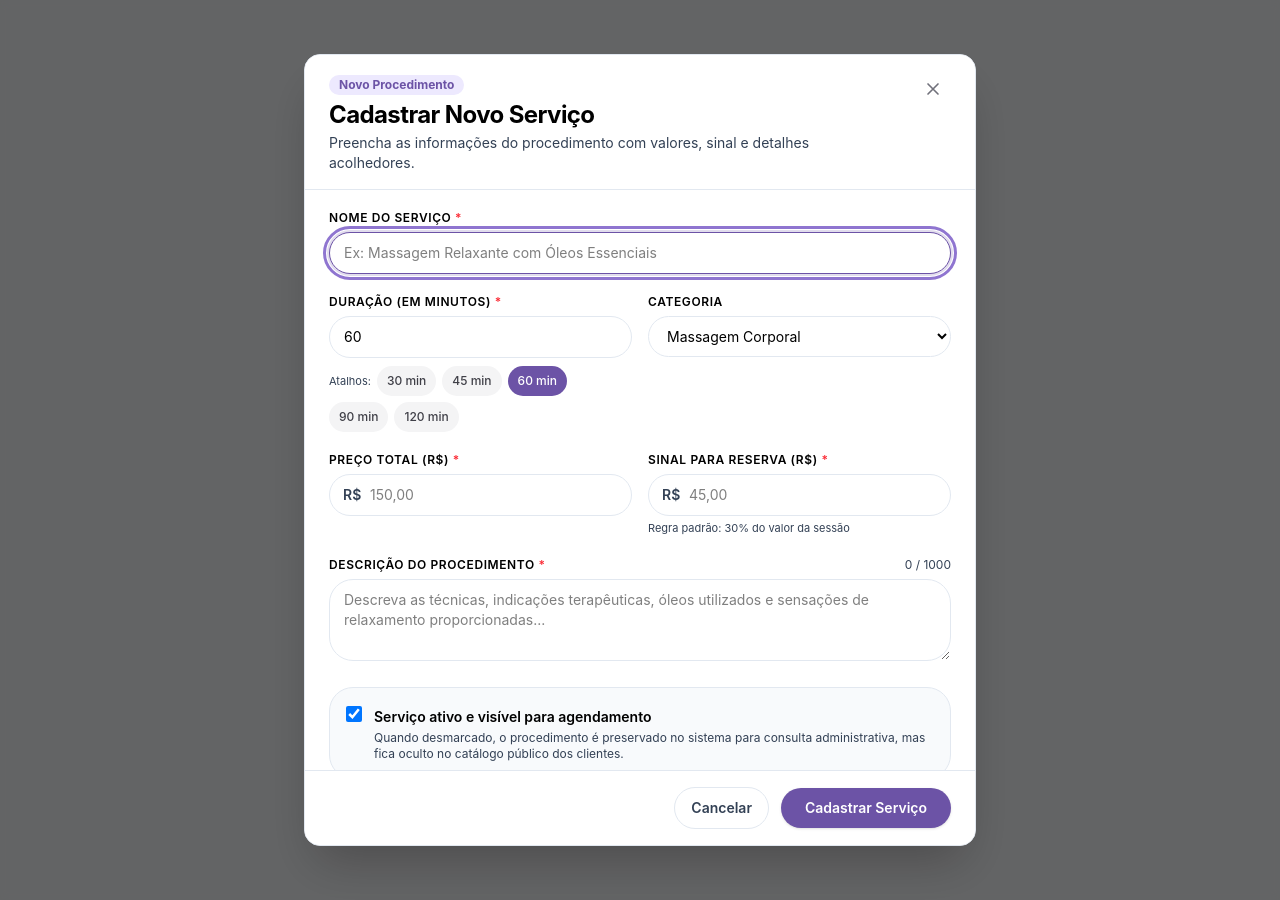
Scenario: AdminServiceFormModal › calcula automaticamente o sinal de 30% quando o preço é informado
Type "200" into the number field labelled "Preço Total (R$) *".
click(480, 495); type("200")  # box [329,474,632,516]
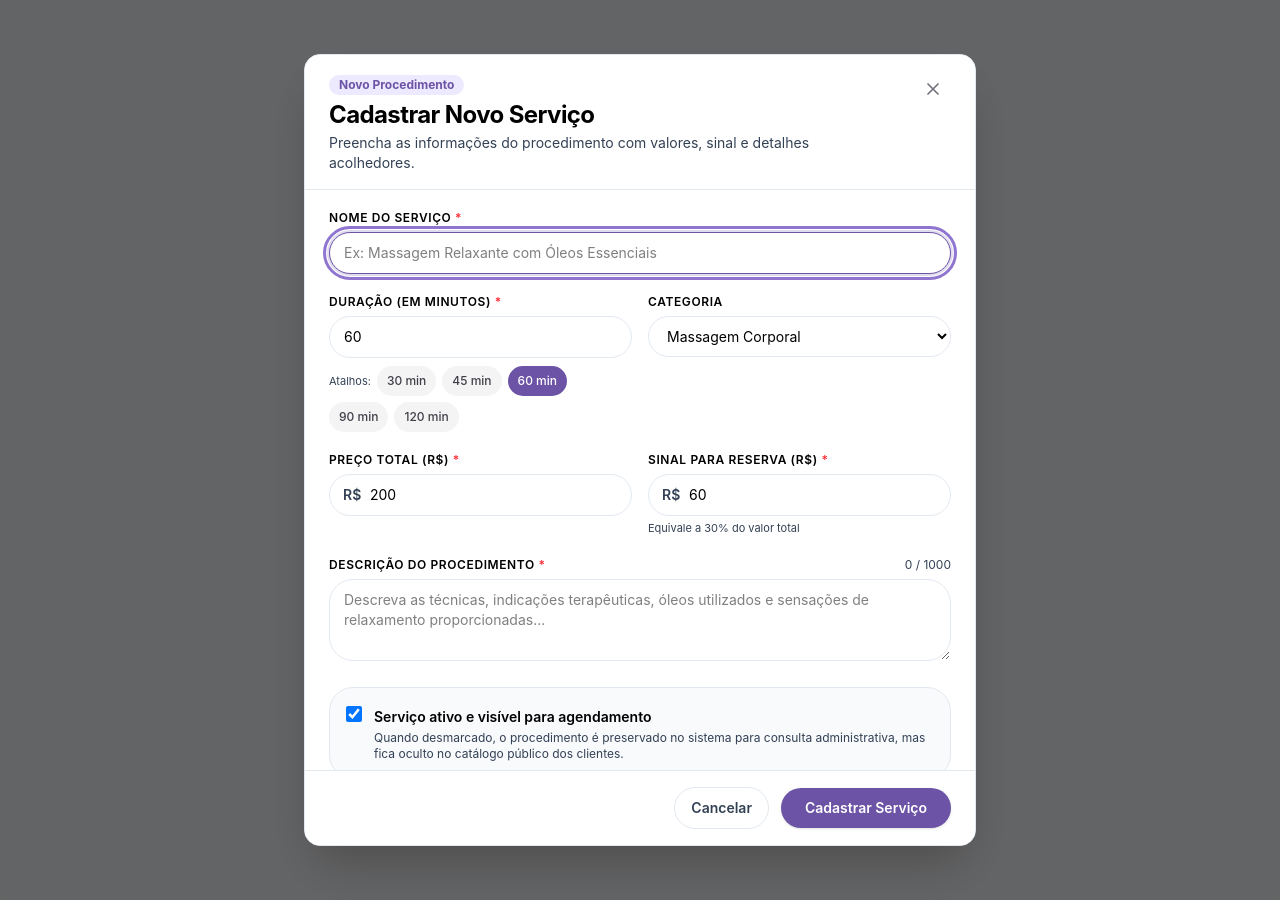
Result: the number field labelled "Sinal para Reserva (R$) *" holds "60" at [648,474,951,516]
Result: the text "Equivale a 30% do valor total" is shown at [648,520,800,536]
